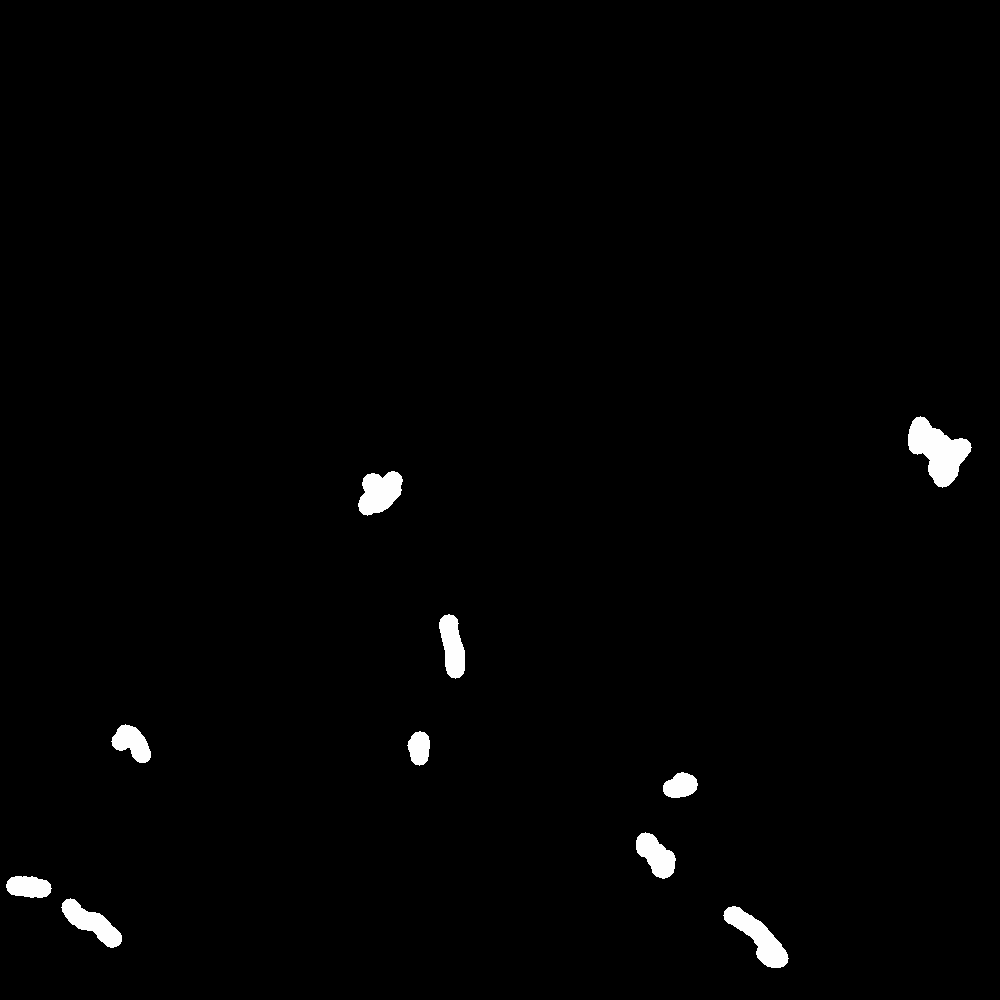illegal: (722, 907, 792, 971), (913, 415, 962, 482), (67, 907, 119, 954), (634, 832, 675, 870), (407, 735, 430, 775), (112, 724, 138, 743), (21, 878, 47, 896)
